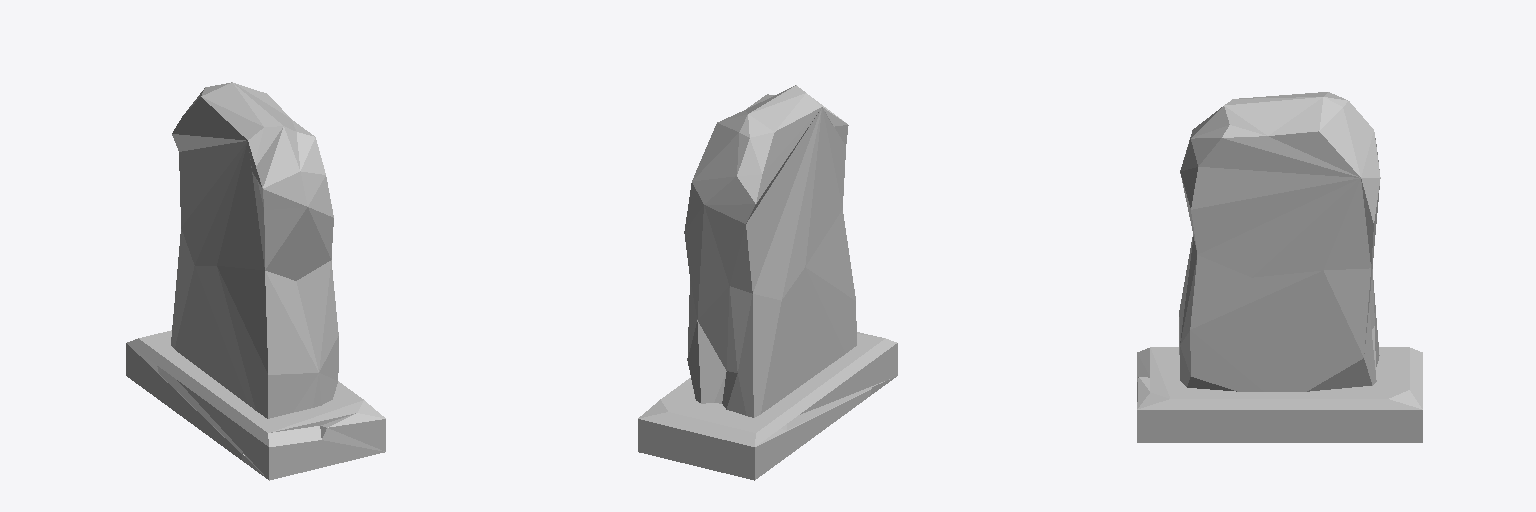
The model's file is gravestone.obj.
3 renders of one model, left to right at view 1: azimuth 30°, elevation 25°; view 2: azimuth 150°, elevation 25°; view 3: azimuth 270°, elevation 25°, orthographic.
Visible parts, largest first — view 1: Cube_Cube.003, Cube.001_Cube.002; view 2: Cube_Cube.003, Cube.001_Cube.002; view 3: Cube_Cube.003, Cube.001_Cube.002.
Part boxes in pixels (x1,y1,x2,y2): Cube_Cube.003: (171,82,338,418); Cube.001_Cube.002: (126,330,385,480); Cube_Cube.003: (684,85,856,417); Cube.001_Cube.002: (638,332,897,480); Cube_Cube.003: (1179,92,1380,391); Cube.001_Cube.002: (1137,347,1422,442).
Size of the model in its own units: 1.18 by 3.04 by 2.49.